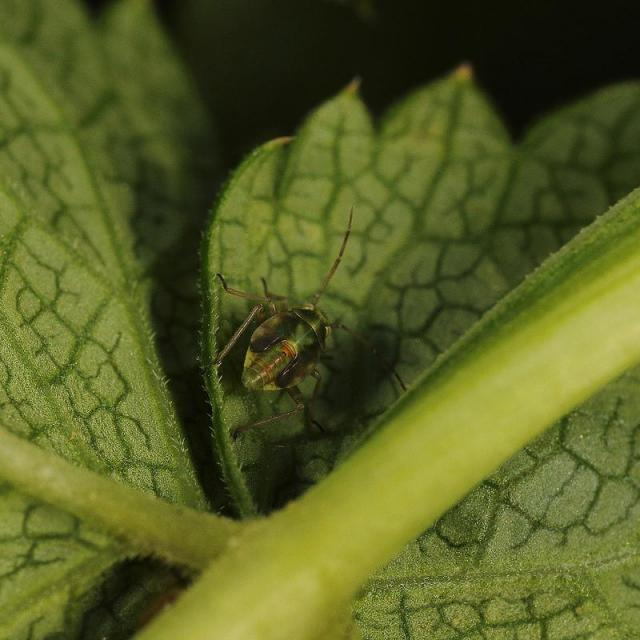Miridae-Adult-: (196, 201, 402, 444)
